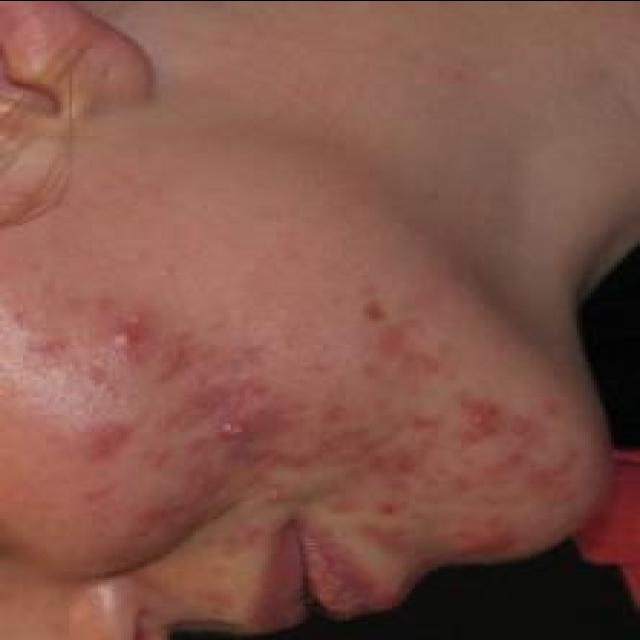Acne: (456, 392, 503, 447), (451, 524, 519, 558), (78, 418, 130, 461), (212, 412, 252, 448), (370, 322, 406, 362), (106, 323, 144, 353), (373, 498, 403, 518)
